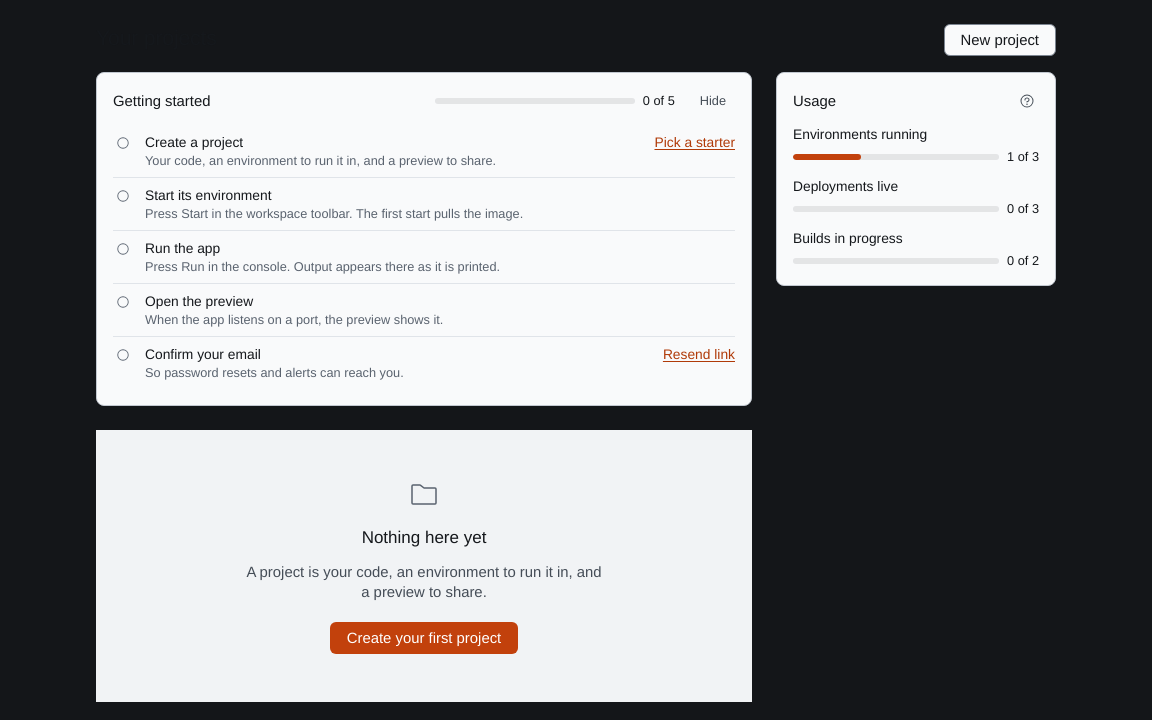
Test: ProjectsPage › previews the URL the server will derive
Expected: the text "Nothing here yet" is shown, [362, 526, 486, 550]
Click the button "Create your first project".
click(424, 638)  # box [330, 622, 518, 654]
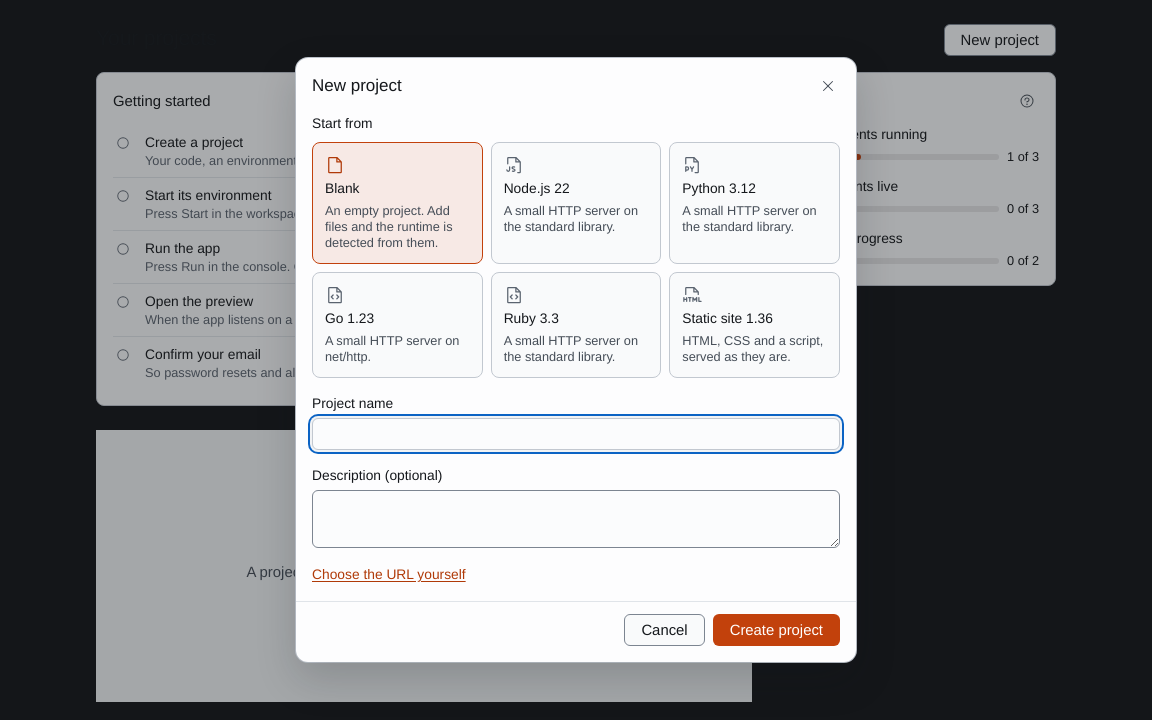
Type "Café Résumé" into the field labelled "Project name".
click(576, 434); type("Café Résumé")  # box [313, 419, 839, 449]
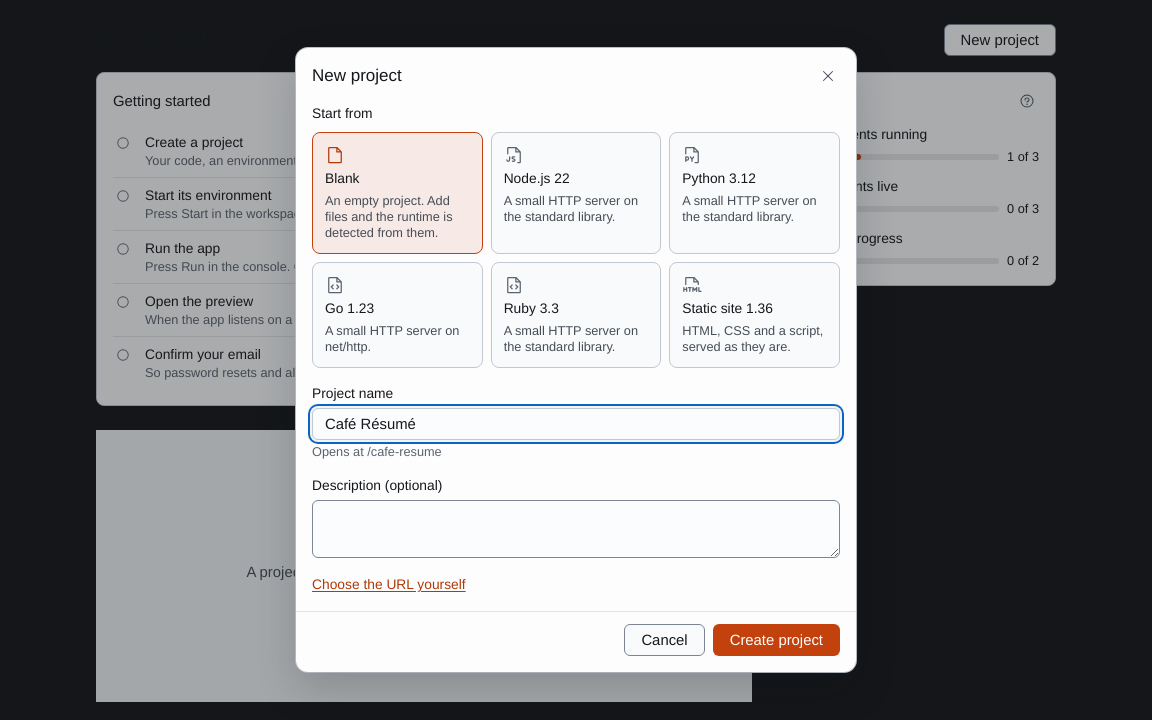
Expected: the text "Opens at /cafe-resume" is shown, [312, 444, 442, 460]
